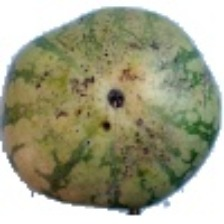watermelon: (37, 29, 180, 195)
